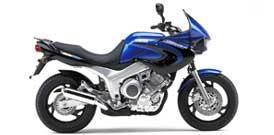motorcycle: (24, 1, 246, 135)
